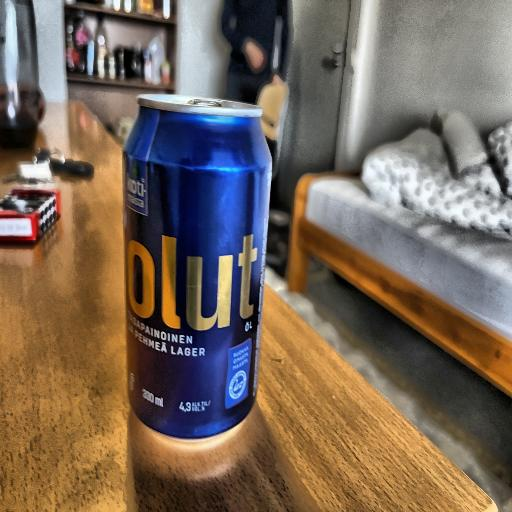koti: (121, 106, 283, 448)
